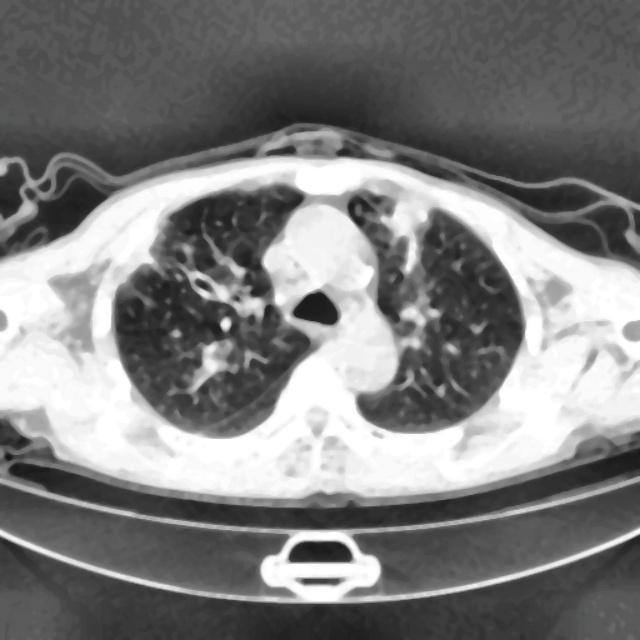covid: (0, 127, 639, 506)
